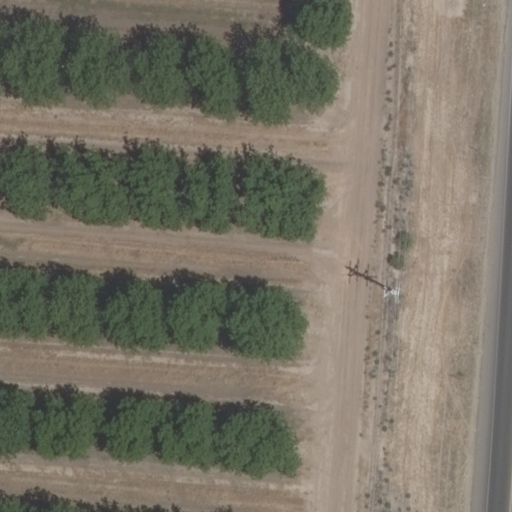DT: (376, 277, 403, 305)
